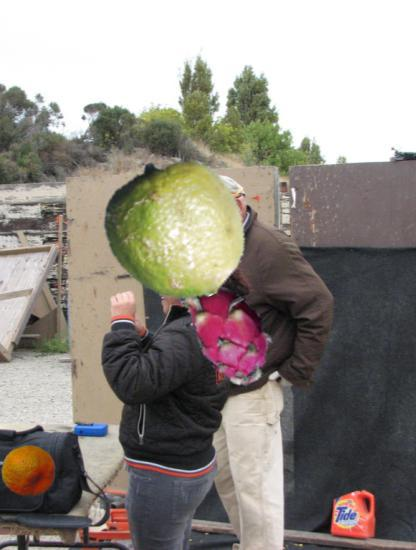Limes: (103, 159, 249, 305)
Mandarine: (2, 444, 57, 499)
Pitahaya: (170, 276, 285, 391)
